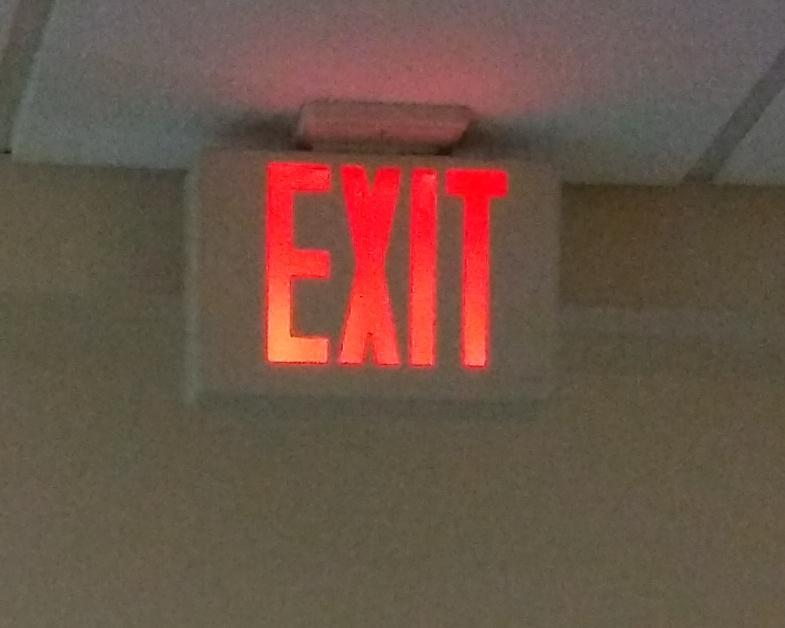sign: (184, 149, 560, 401)
